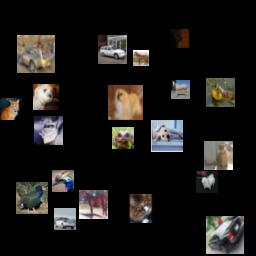automobile: (17, 35, 55, 73), (206, 216, 244, 254), (98, 35, 127, 64), (54, 208, 76, 230)
bird: (16, 182, 48, 214), (52, 170, 74, 192)
cat: (126, 194, 155, 223), (204, 141, 233, 170), (0, 98, 22, 120), (170, 29, 189, 48)
dog: (108, 85, 143, 120), (151, 120, 183, 152), (33, 84, 59, 110), (196, 171, 218, 193)
frog: (206, 78, 235, 107), (112, 127, 134, 149)
ship: (34, 116, 63, 145)
